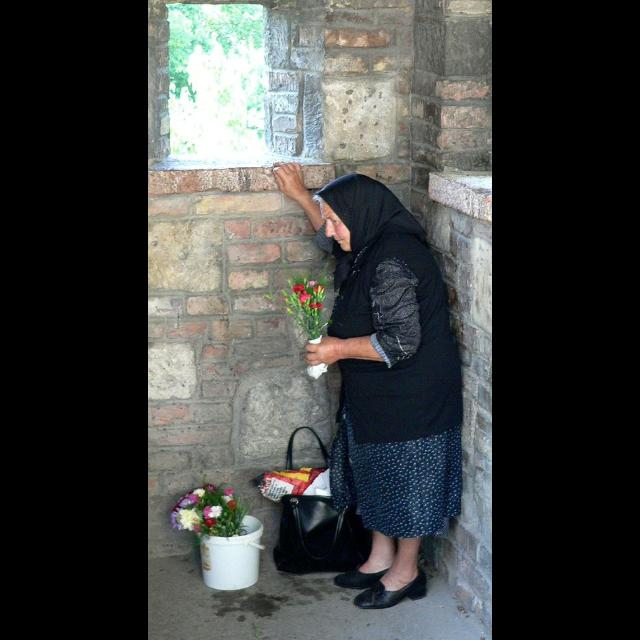Flower: (170, 482, 250, 538), (294, 274, 332, 318)
